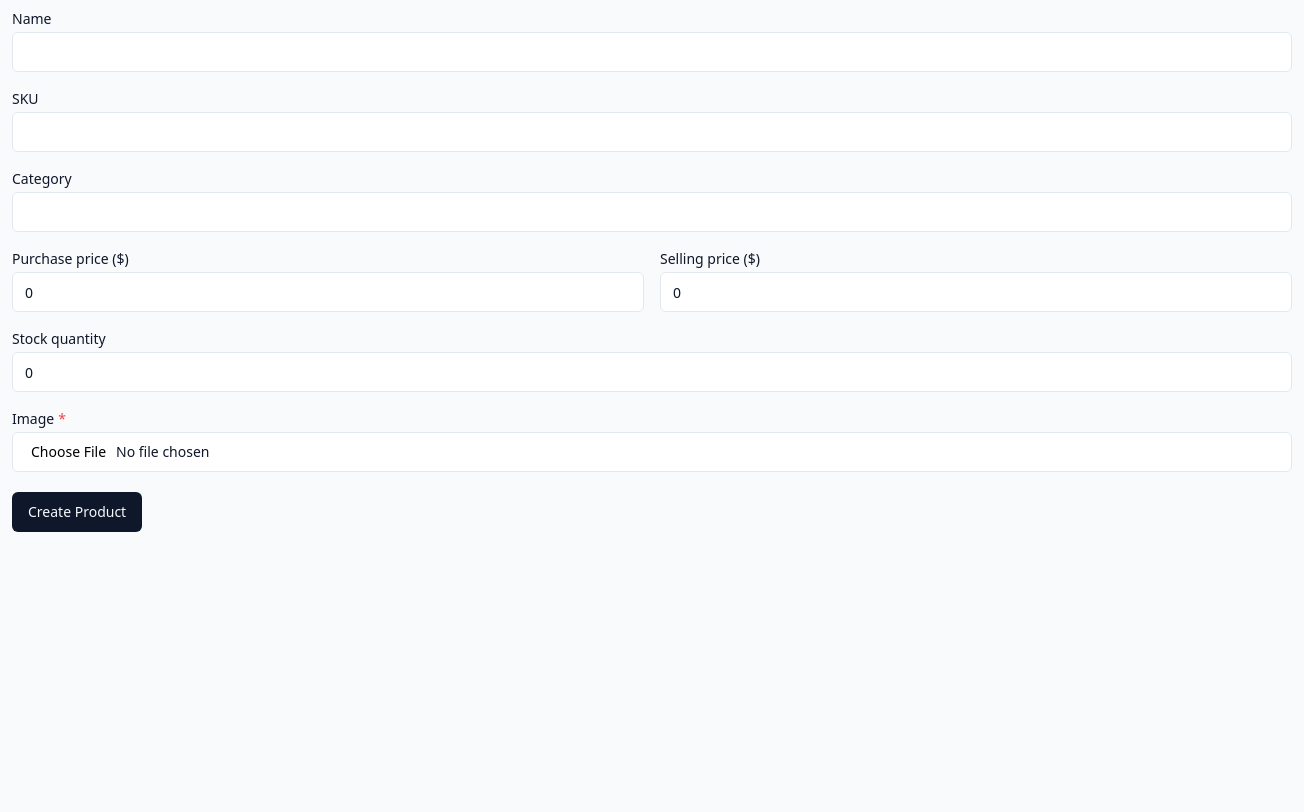
ProductForm (create) › blocks submission and shows error when no image is selected
Type "Widget B" into the field labelled "Name" at (652, 52), box [12,32,1292,72]
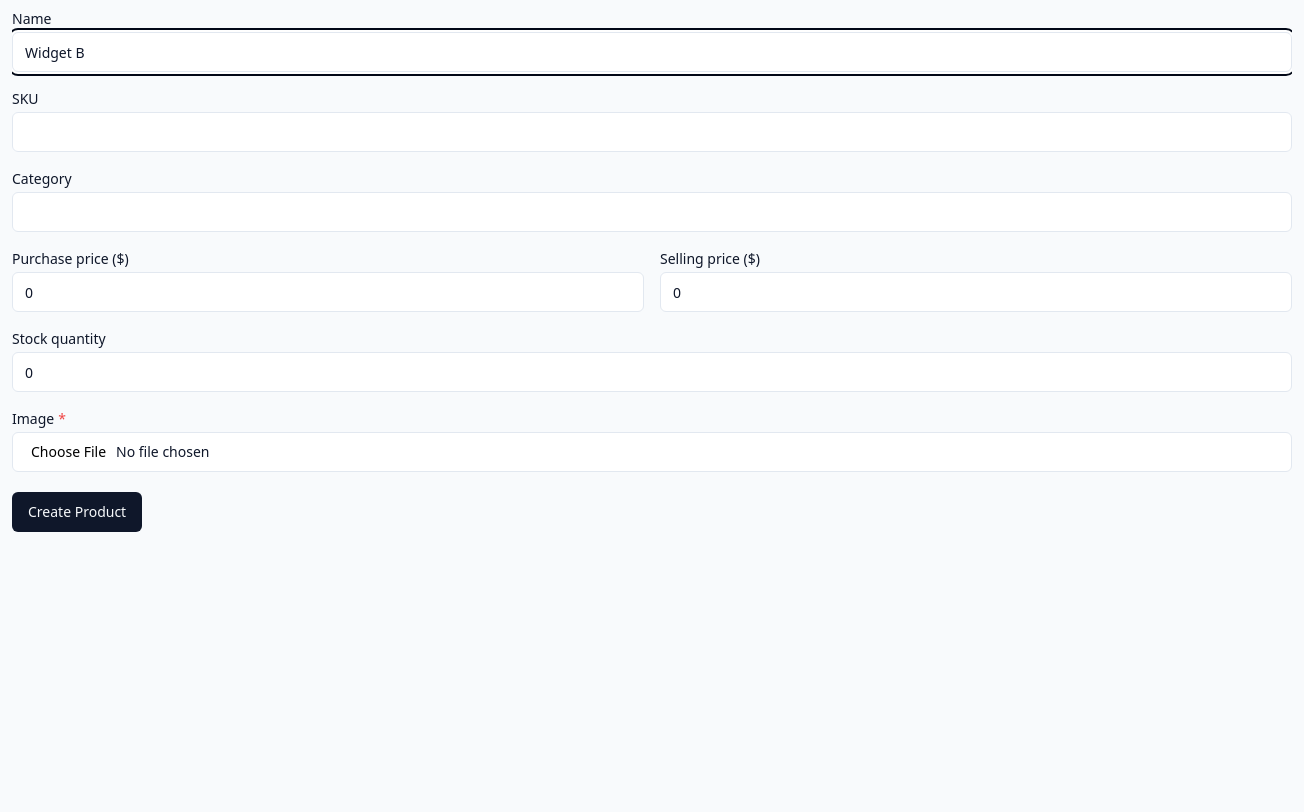
Type "WGT-002" into the field labelled "SKU" at (652, 132), box [12,112,1292,152]
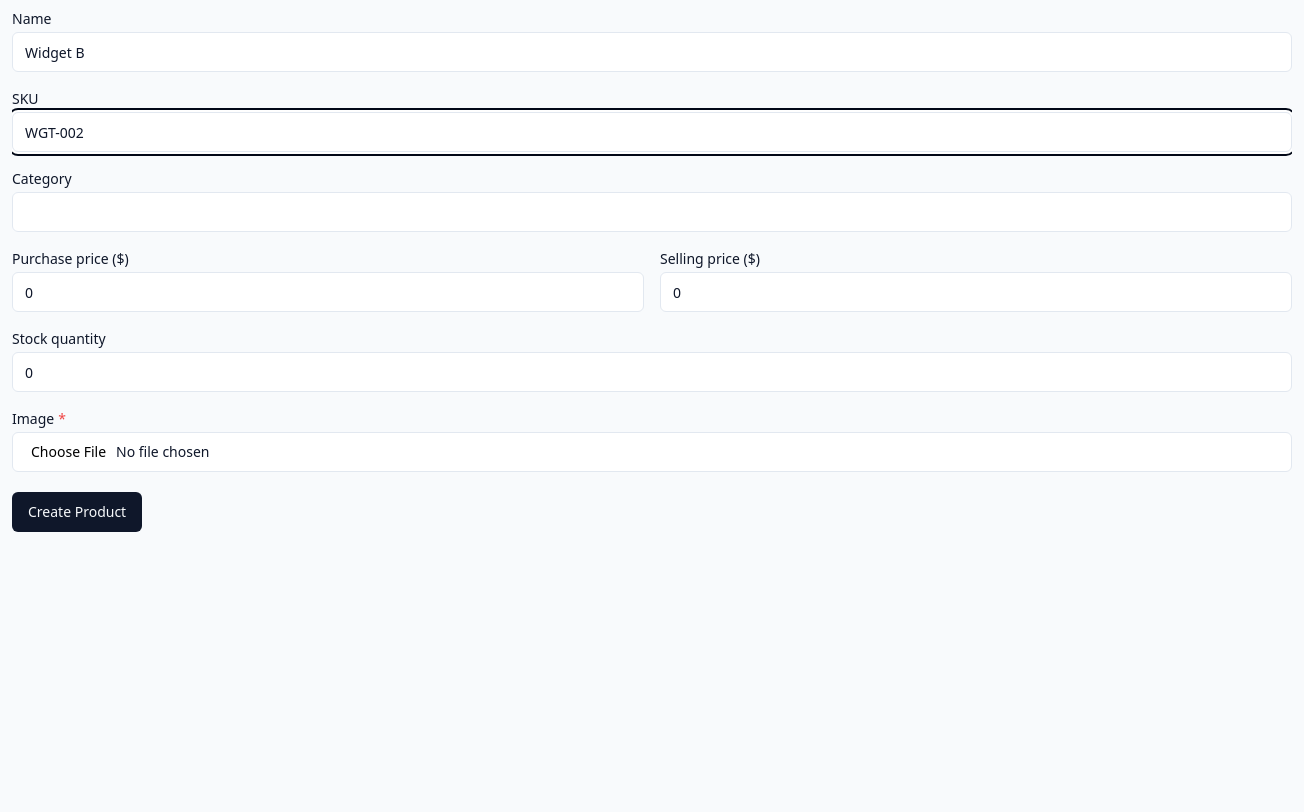
Type "Widgets" into the field labelled "Category" at (652, 212), box [12,192,1292,232]
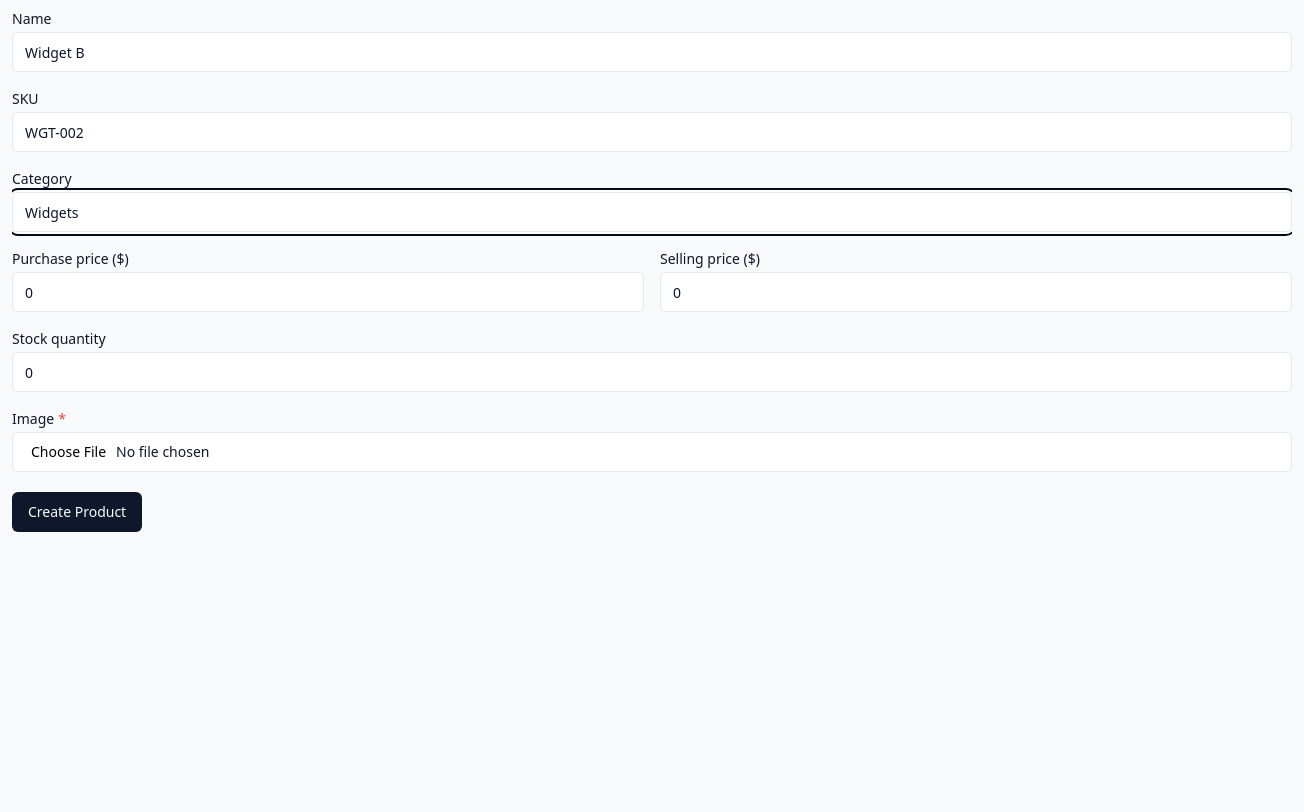
Click the button "Create Product" at (77, 512), box [12,492,142,532]
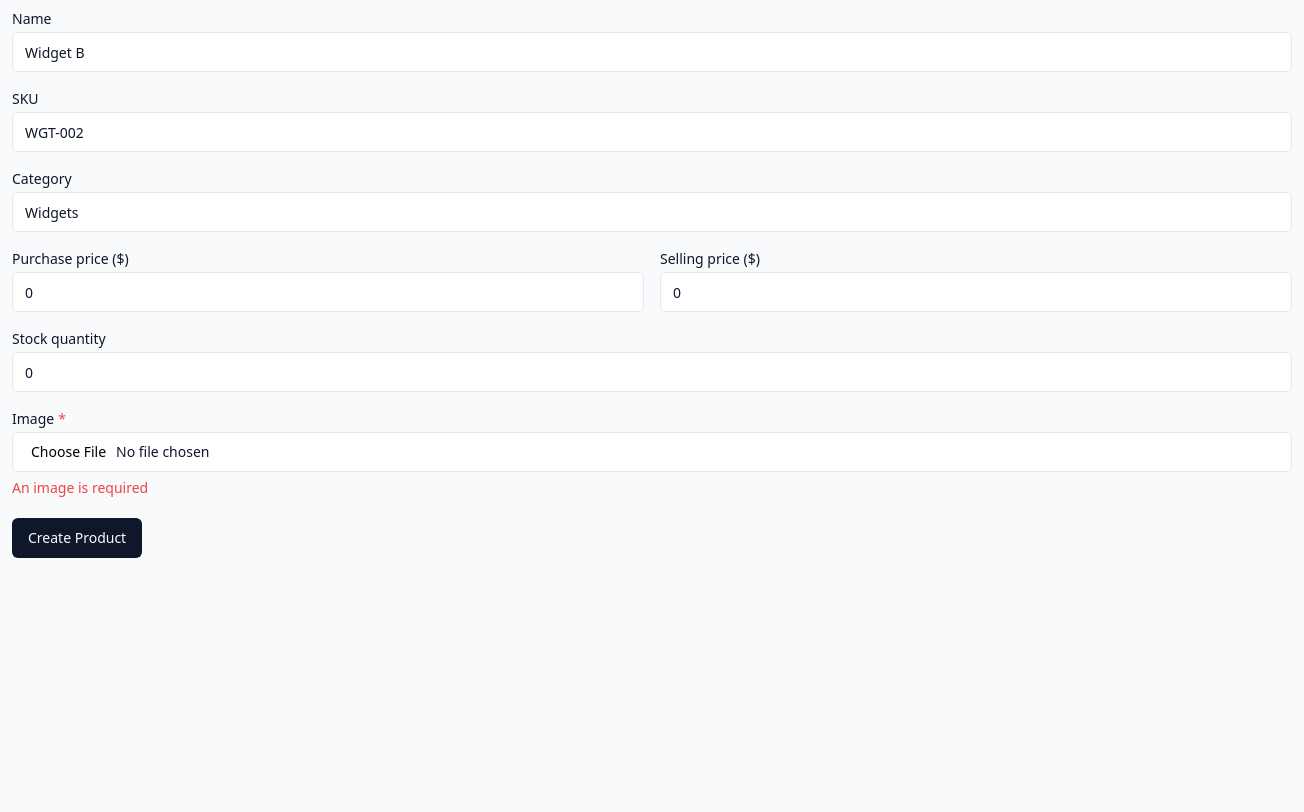
Expected: the message shows "image is required", [12,478,148,497]
